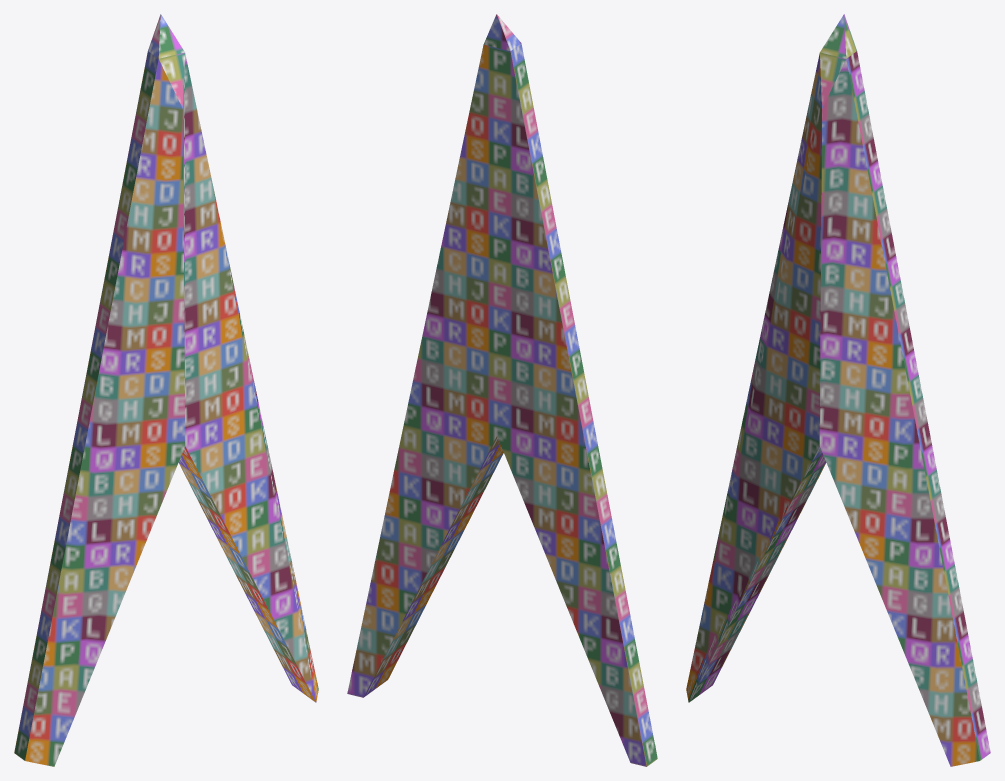
File: LandingLegFalcon9.obj
3 renders of one model, left to right at view 1: azimuth 30°, elevation 25°; view 2: azimuth 150°, elevation 25°; view 3: azimuth 330°, elevation 25°, orthographic.
Parts seen in each view (by area): view 1: Cube1; view 2: Cube1; view 3: Cube1.
Part boxes in pixels (x1,y1,x2,y2): Cube1: (14,14,318,766); Cube1: (347,14,657,766); Cube1: (686,14,990,766).
Bounding box in the file's own units: 7 × 16 × 1.01.
1 material, 1 textured.
